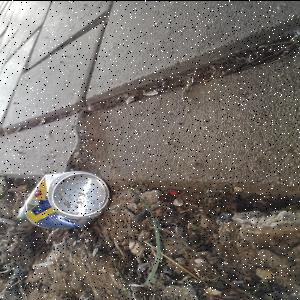Can: (23, 170, 113, 231)
